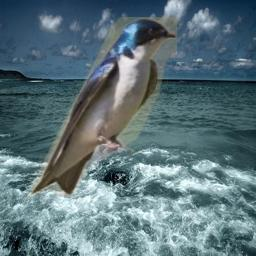Swallow: (29, 17, 177, 197)
